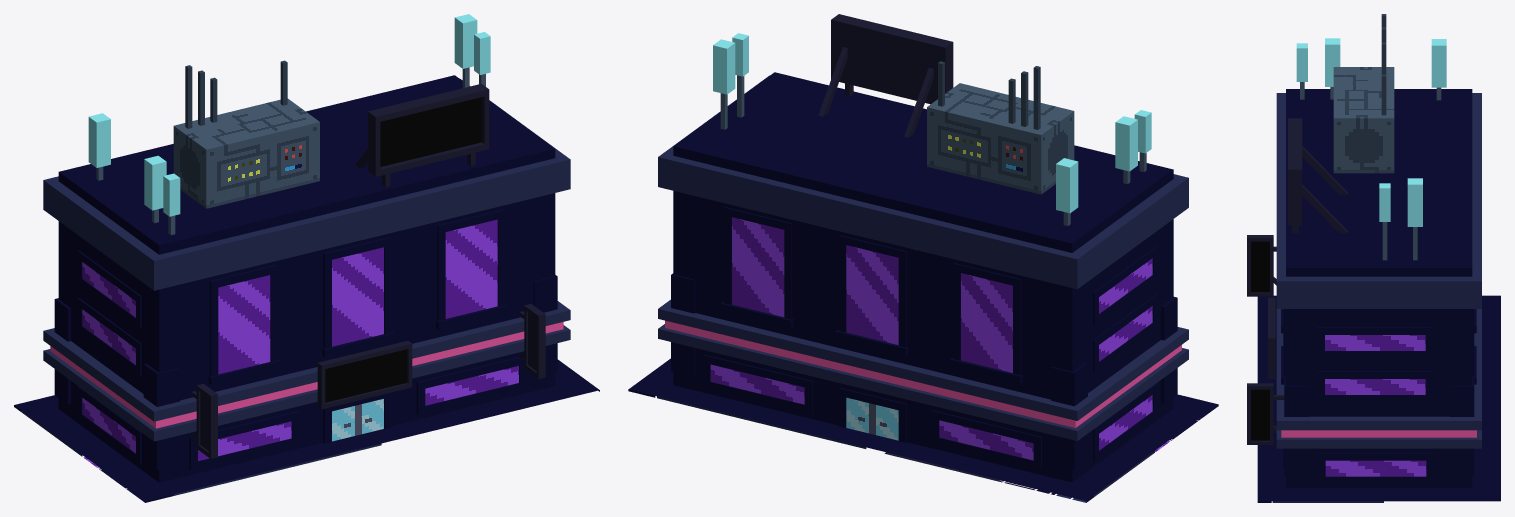
File: Building_1_2x2.gltf
3 renders of one model, left to right at view 1: azimuth 30°, elevation 25°; view 2: azimuth 150°, elevation 25°; view 3: azimuth 270°, elevation 25°, orthographic. The views are drawn at different scales.
Visible parts, largest first — view 1: Building, Road, Sign.003, Sign.001, Sign.002, Sign; view 2: Building, Road, Sign.003; view 3: Building, Road, Sign.003, Sign.002, Sign, Sign.001.
Part boxes in pixels (<box>): Building: <box>43,14,570,482</box>; Road: <box>14,359,599,502</box>; Sign.003: <box>355,84,489,186</box>; Sign.001: <box>317,341,412,409</box>; Sign.002: <box>519,304,545,378</box>; Sign: <box>191,383,217,458</box>; Building: <box>658,33,1188,482</box>; Road: <box>628,358,1218,502</box>; Sign.003: <box>818,14,953,137</box>; Building: <box>1276,14,1481,487</box>; Road: <box>1257,295,1500,502</box>; Sign.003: <box>1288,118,1347,233</box>; Sign.002: <box>1247,383,1284,444</box>; Sign: <box>1247,235,1276,296</box>; Sign.001: <box>1268,297,1275,378</box>.
Size of the model in its own units: 32 by 24.16 by 16.69.
Materials: 1 (1 with a texture image).
